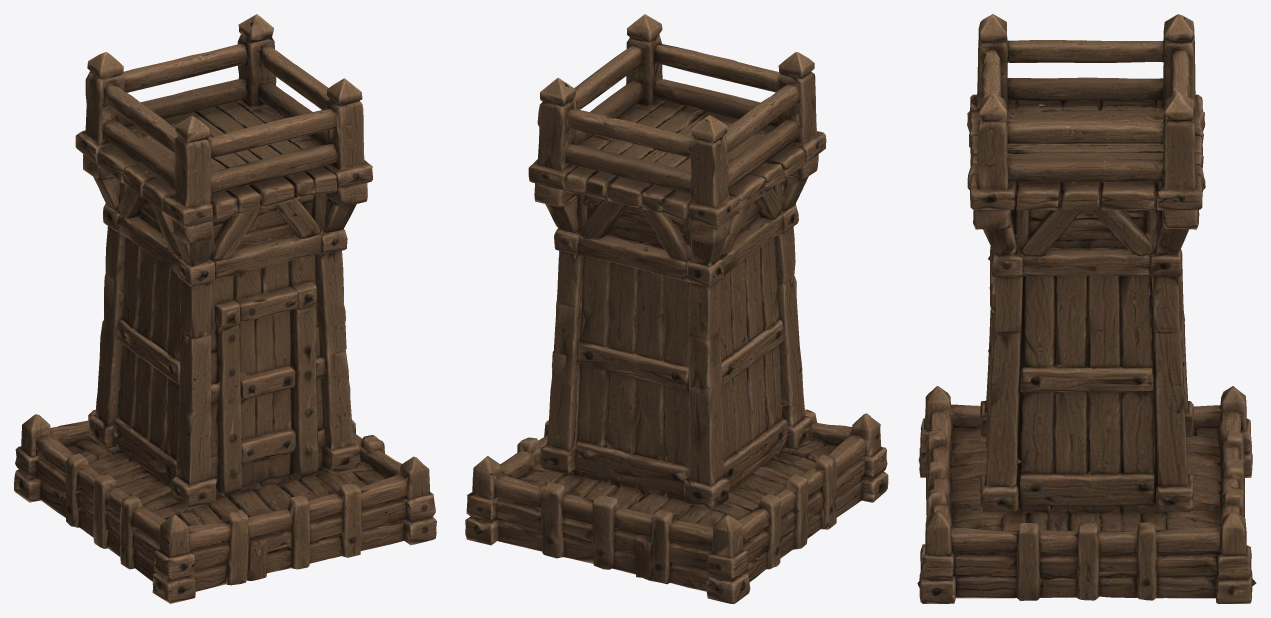
File: tower_small.glb
3 renders of one model, left to right at view 1: azimuth 30°, elevation 25°; view 2: azimuth 150°, elevation 25°; view 3: azimuth 270°, elevation 25°, orthographic. The views are drawn at different scales.
Bounding box in the file's own units: 1.21 × 1.9 × 1.22.
Materials: 1 (1 with a texture image).
